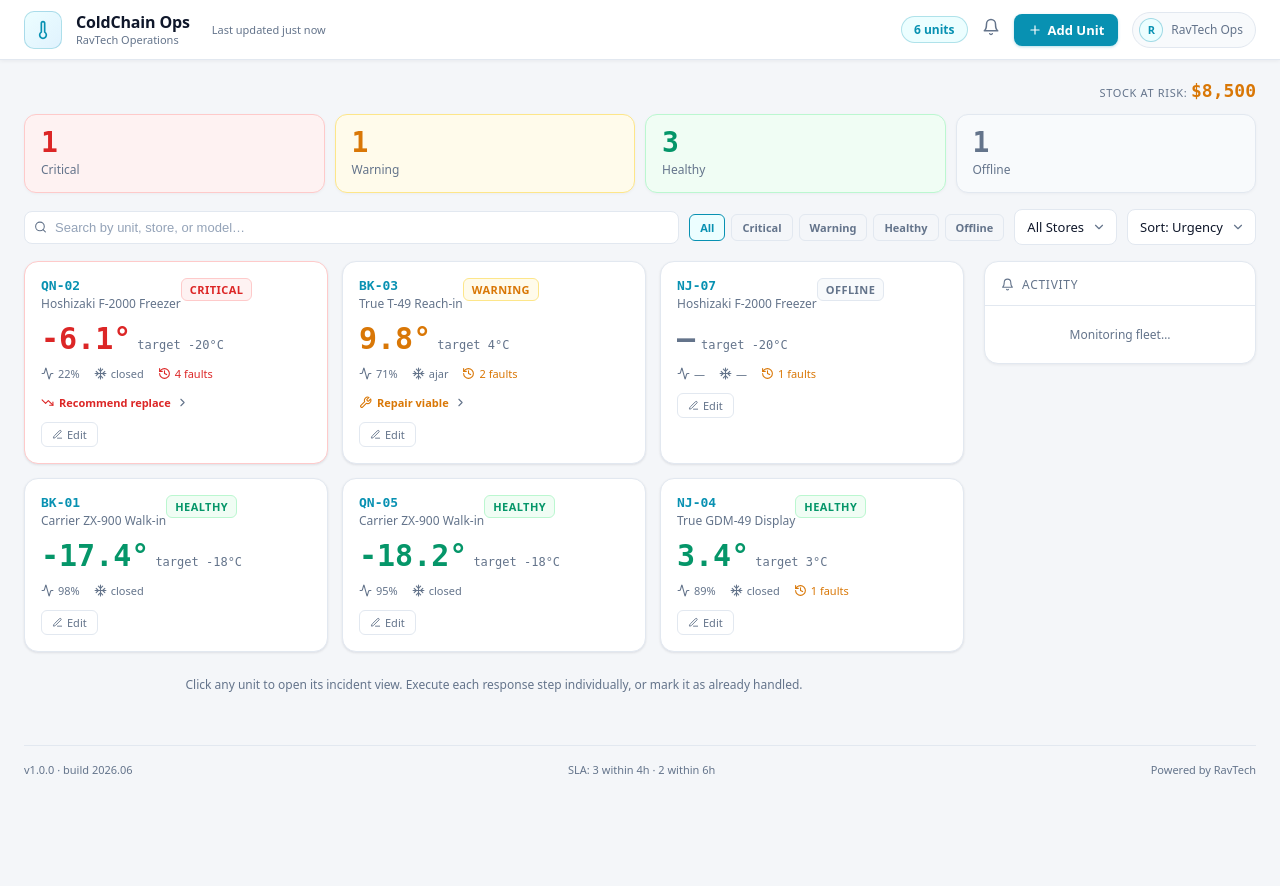
ColdChainDashboard — incident playbook interaction › opens the incident view with the unit's store and model
Expected: the text "QN-02" is shown, x1=41 y1=278 x2=80 y2=293
Click the button with aria-label "QN-02 — Queens — Astoria, Hoshizaki F-2000 Freezer, status:" at (61, 286), box x1=24 y1=261 x2=328 y2=464
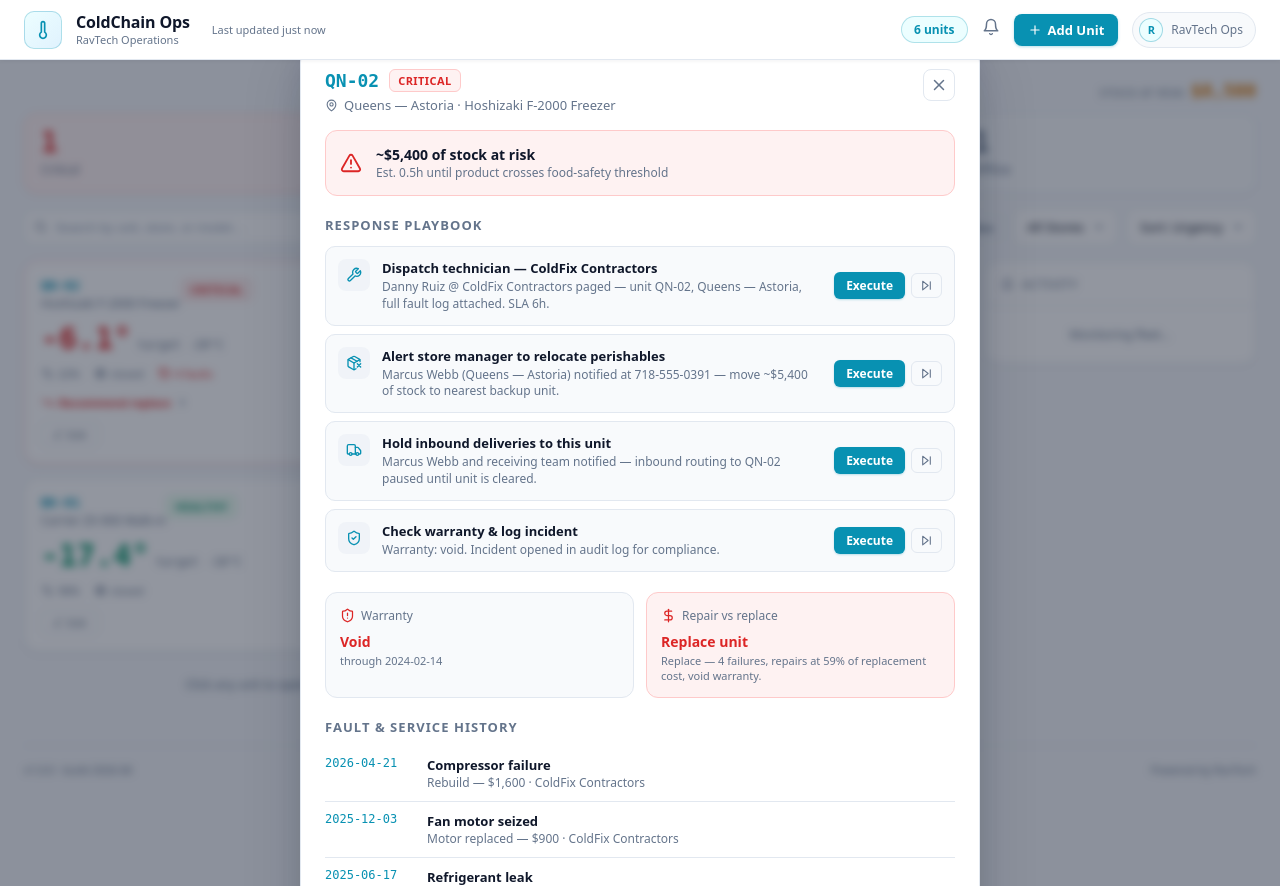
Expected: the text "Queens — Astoria · Hoshizaki F-2000 Freezer" is shown, x1=325 y1=96 x2=616 y2=114
Expected: the heading "Response playbook" is shown, x1=325 y1=216 x2=482 y2=234
